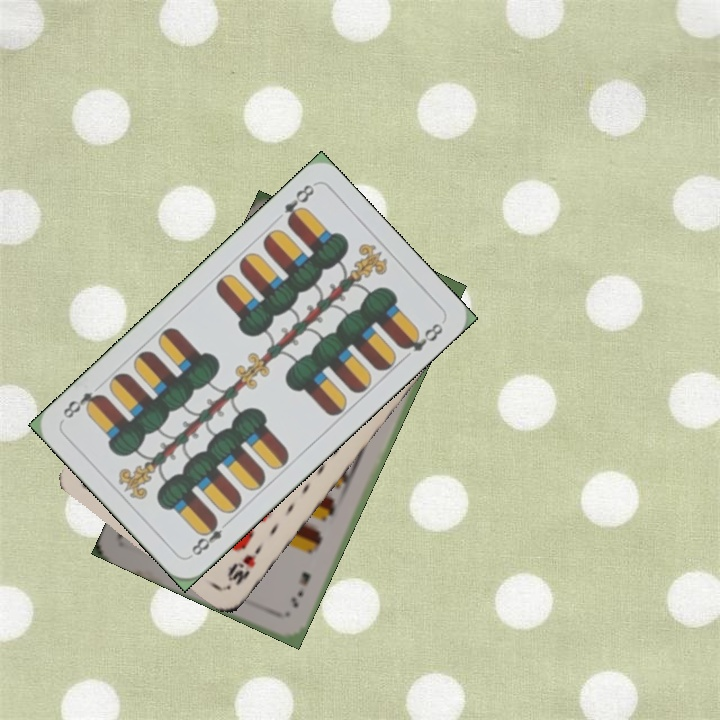E7: (286, 567, 313, 610)
E8: (187, 514, 234, 559), (279, 180, 317, 228)
H10: (223, 540, 266, 589)
